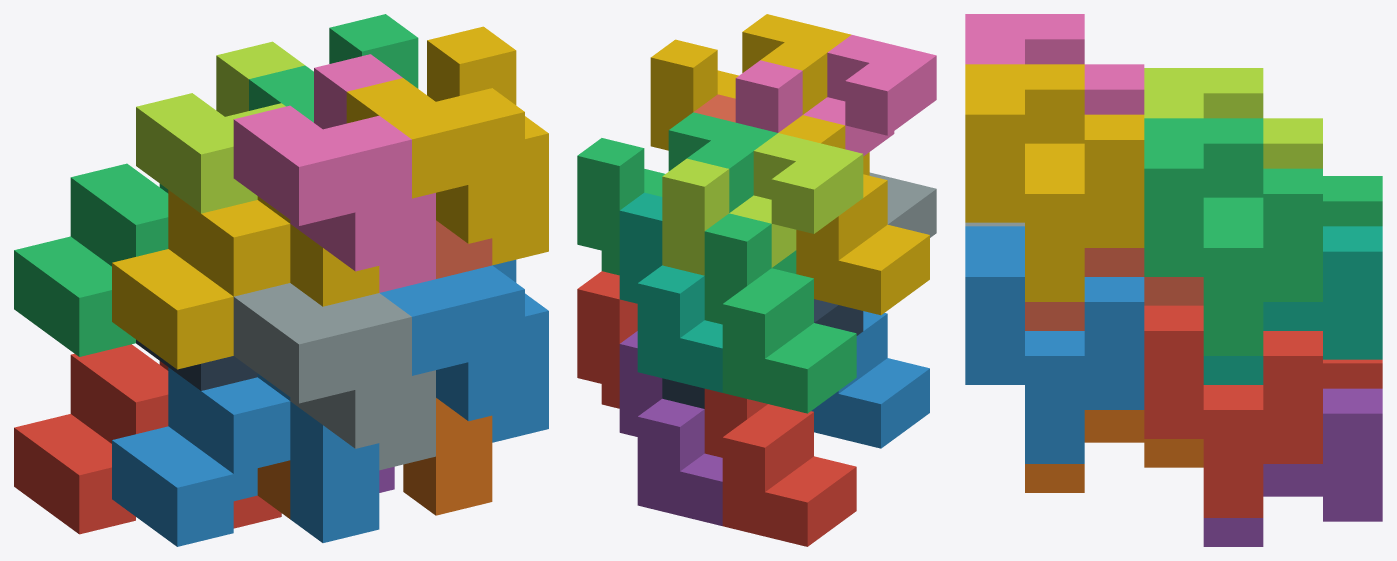
File: tiling.obj
3 views of the same model, side by side, from view 1: azimuth 30°, elevation 25°; view 2: azimuth 150°, elevation 25°; view 3: azimuth 270°, elevation 25° (orthographic). The views are drawn at different scales.
Visible parts, largest first — view 1: copy_1_domain_2, copy_2_domain_4, copy_2_domain_8, copy_2_domain_2, copy_1_domain_4, copy_2_domain_6, copy_1_domain_1, copy_1_domain_3, copy_2_domain_3, copy_1_domain_6, copy_2_domain_7, copy_1_domain_8 (+1 smaller); view 2: copy_1_domain_3, copy_1_domain_1, copy_2_domain_3, copy_2_domain_4, copy_1_domain_4, copy_1_domain_7, copy_2_domain_7, copy_1_domain_5, copy_2_domain_8, copy_1_domain_2, copy_2_domain_5, copy_2_domain_2 (+2 smaller); view 3: copy_2_domain_8, copy_2_domain_7, copy_2_domain_6, copy_2_domain_5, copy_1_domain_5, copy_1_domain_7, copy_2_domain_4, copy_2_domain_3, copy_1_domain_6, copy_1_domain_8, copy_1_domain_3, copy_1_domain_1.
Part boxes in pixels (left/top/right/bottom): copy_1_domain_2: left=112, top=367, right=379, bottom=546; copy_2_domain_4: left=233, top=54, right=435, bottom=292; copy_2_domain_8: left=346, top=26, right=548, bottom=265; copy_2_domain_2: left=233, top=283, right=435, bottom=470; copy_1_domain_4: left=112, top=190, right=379, bottom=369; copy_2_domain_6: left=380, top=259, right=548, bottom=442; copy_1_domain_1: left=14, top=344, right=281, bottom=534; copy_1_domain_3: left=14, top=163, right=168, bottom=356; copy_2_domain_3: left=136, top=41, right=304, bottom=213; copy_1_domain_6: left=257, top=398, right=492, bottom=518; copy_2_domain_7: left=249, top=14, right=418, bottom=122; copy_1_domain_8: left=436, top=220, right=492, bottom=278; copy_1_domain_3: left=704, top=213, right=856, bottom=413; copy_1_domain_1: left=704, top=388, right=856, bottom=546; copy_2_domain_3: left=662, top=133, right=863, bottom=275; copy_2_domain_4: left=735, top=35, right=936, bottom=156; copy_1_domain_4: left=778, top=115, right=929, bottom=315; copy_1_domain_7: left=619, top=192, right=722, bottom=392; copy_2_domain_7: left=577, top=112, right=777, bottom=275; copy_1_domain_5: left=619, top=331, right=722, bottom=525; copy_2_domain_8: left=650, top=14, right=851, bottom=150; copy_1_domain_2: left=811, top=311, right=929, bottom=448; copy_2_domain_5: left=577, top=271, right=637, bottom=408; copy_2_domain_2: left=869, top=172, right=936, bottom=237; copy_2_domain_8: left=965, top=64, right=1144, bottom=301; copy_2_domain_7: left=1144, top=118, right=1322, bottom=355; copy_2_domain_6: left=965, top=226, right=1144, bottom=463; copy_2_domain_5: left=1144, top=305, right=1322, bottom=517; copy_1_domain_5: left=1203, top=388, right=1382, bottom=546; copy_1_domain_7: left=1203, top=226, right=1382, bottom=384; copy_2_domain_4: left=965, top=14, right=1144, bottom=114; copy_2_domain_3: left=1144, top=68, right=1322, bottom=168; copy_1_domain_6: left=1025, top=410, right=1203, bottom=492; copy_1_domain_8: left=1025, top=248, right=1203, bottom=330; copy_1_domain_3: left=1323, top=176, right=1382, bottom=226; copy_1_domain_1: left=1323, top=359, right=1382, bottom=388.
Size of the model in its own units: 6 by 8 by 7.
